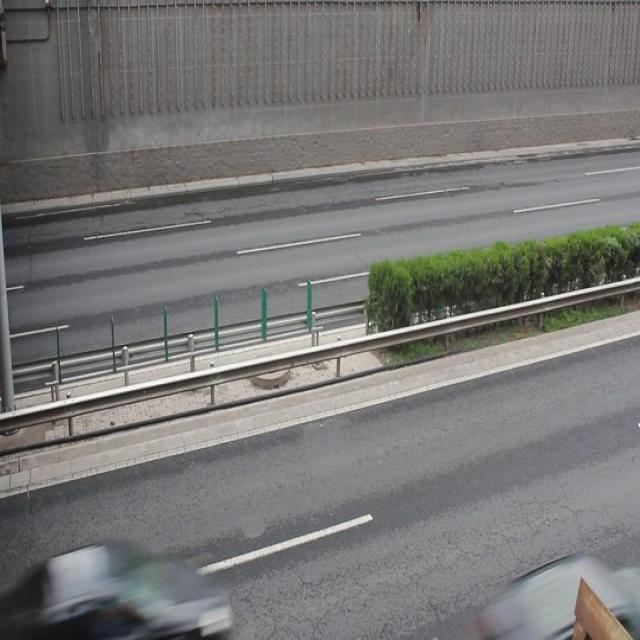car: (32, 539, 227, 640), (468, 556, 640, 640)
